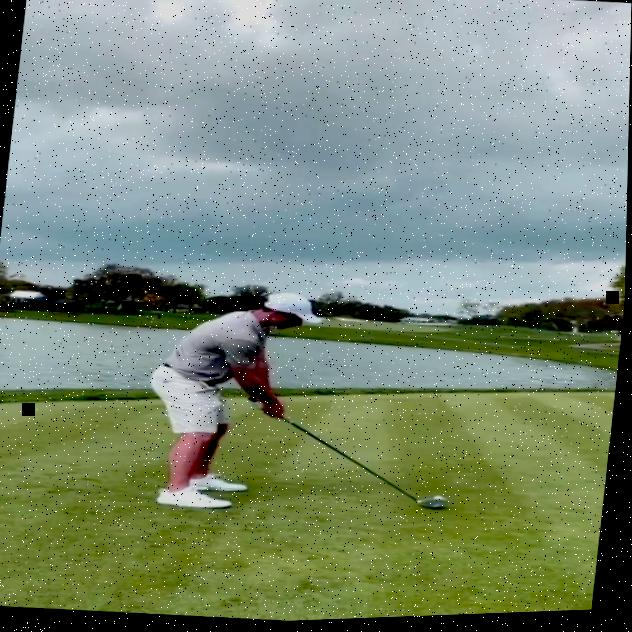ClubHead: (421, 500, 450, 515)
GolfBall: (438, 499, 447, 505)
